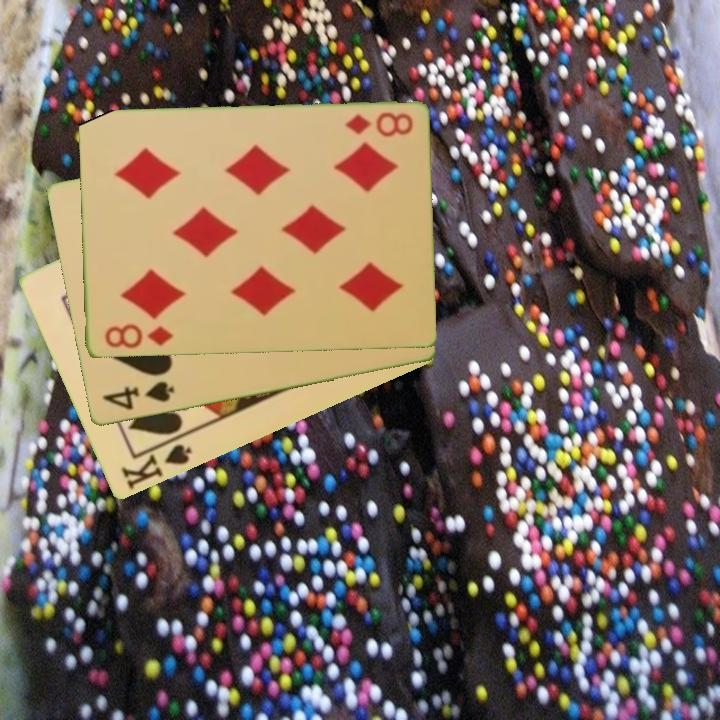4s: (98, 378, 177, 414)
8d: (101, 321, 176, 352), (341, 109, 415, 140)
Ks: (117, 441, 195, 493)
